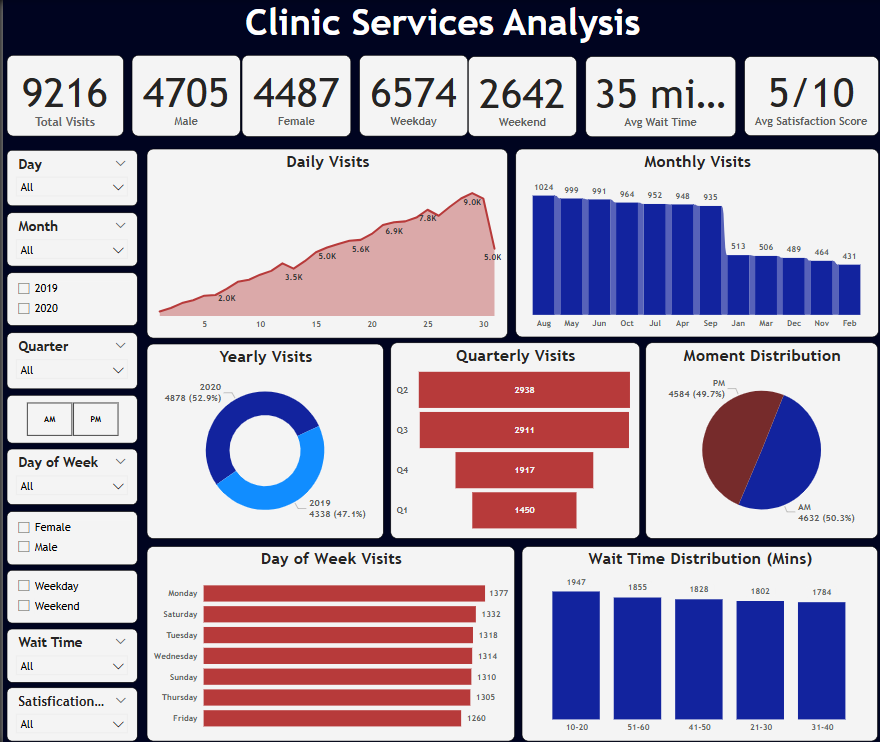

The page's visual inventory and layout, read from the dashboard file:
{"tool":"powerbi","page":{"name":"Services","canvas":[1282,1086],"ordinal":0},"visuals":[{"type":"stackedAreaChart","title":"Daily Visits","fields":{"Category":["date_time table.day"],"Y":["Sum(date_time table.day)"]},"box":[210,215.7,525.7,275.7],"z":0},{"type":"columnChart","title":"Monthly Visits","fields":{"Category":["date_time table.month"],"Y":["CountNonNull(date_time table.month)"]},"box":[745.7,215.7,528.6,274.3],"z":1000},{"type":"donutChart","title":"Yearly Visits","fields":{"Y":["CountNonNull(date_time table.year)"],"Category":["date_time table.year"]},"box":[210,500,345,283.8],"z":2000},{"type":"clusteredBarChart","title":"Day of Week Visits","fields":{"Category":["date_time table.day of week"],"Y":["CountNonNull(date_time table.day of week)"]},"box":[210,795.7,535.7,284.3],"z":3000},{"type":"funnel","title":"Quarterly Visits","fields":{"Category":["date_time table.quarter"],"Y":["CountNonNull(date_time table.quarter)"]},"box":[564.3,499.4,362.9,285.7],"z":4000},{"type":"pieChart","title":"Moment Distribution","fields":{"Category":["date_time table.Moment"],"Y":["CountNonNull(date_time table.Moment)"]},"box":[935.7,498,338.6,285.7],"z":5000},{"type":"textbox","box":[0,0,1280,74.3],"z":6000},{"type":"lineStackedColumnComboChart","title":"Wait Time Distribution (Mins)","fields":{"Category":["date_time table.waittime_bucket"],"Y":["CountNonNull(date_time table.waittime_bucket)"]},"box":[755.7,795.7,518.6,284.3],"z":7000},{"type":"slicer","fields":{"Values":["date_time table.day of week"]},"box":[6.2,653.8,190,81.2],"z":8000},{"type":"slicer","fields":{"Values":["date_time table.Moment"]},"box":[6.2,575,190,70],"z":9000},{"type":"slicer","fields":{"Values":["date_time table.quarter"]},"box":[6.2,483.8,190,82.5],"z":10000},{"type":"slicer","fields":{"Values":["date_time table.year"]},"box":[6.2,397.5,190,77.5],"z":11000},{"type":"slicer","fields":{"Values":["date_time table.month"]},"box":[6.2,310,190,78.8],"z":12000},{"type":"slicer","fields":{"Values":["date_time table.day"]},"box":[5.7,218.2,190,81.4],"z":13000},{"type":"slicer","fields":{"Values":["patient table.patient_gender"]},"box":[6.2,743.8,190,78.8],"z":14000},{"type":"slicer","fields":{"Values":["date_time table.weekday/weekend"]},"box":[6.2,830,190,77.5],"z":15000},{"type":"slicer","fields":{"Values":["date_time table.waittime_bucket"]},"box":[6.2,915,190,78.8],"z":16000},{"type":"slicer","fields":{"Values":["activity table.satisfication_score"]},"box":[6.2,1001.2,190,78.8],"z":17000},{"type":"card","fields":{"Values":["Count(patient table.patient_id)"]},"box":[5.7,80,170,118.6],"z":18000},{"type":"card","fields":{"Values":["CountNonNull(patient table.patient_gender)"]},"box":[187.7,79.8,158.6,118.6],"z":19000},{"type":"card","fields":{"Values":["CountNonNull(patient table.patient_gender)"]},"box":[347,79.7,159.4,118.8],"z":20000},{"type":"card","fields":{"Values":["date_time table.Avg Wait Time"]},"box":[847.8,81.2,218.8,117.4],"z":21000},{"type":"card","fields":{"Values":["date_time table.Avg Satisfication Score"]},"box":[1079.7,82.6,195.7,115.9],"z":22000},{"type":"card","fields":{"Values":["CountNonNull(date_time table.weekday/weekend)"]},"box":[517.7,79.7,158.6,118.6],"z":23000},{"type":"card","fields":{"Values":["CountNonNull(date_time table.weekday/weekend)"]},"box":[676.3,81.2,158.6,117.1],"z":24000}]}

Visuals, with their boxes in screenshot pixels (x1, y1, x2, y2), scaled from the page's 1282x1086 canvas onto the 880x742 screenshot:
"Daily Visits" stackedAreaChart: [x1=144, y1=147, x2=505, y2=336]
"Monthly Visits" columnChart: [x1=512, y1=147, x2=875, y2=335]
"Yearly Visits" donutChart: [x1=144, y1=342, x2=381, y2=536]
"Day of Week Visits" clusteredBarChart: [x1=144, y1=544, x2=512, y2=738]
"Quarterly Visits" funnel: [x1=387, y1=341, x2=636, y2=536]
"Moment Distribution" pieChart: [x1=642, y1=340, x2=875, y2=535]
textbox: [x1=0, y1=0, x2=879, y2=51]
"Wait Time Distribution (Mins)" lineStackedColumnComboChart: [x1=519, y1=544, x2=875, y2=738]
slicer - date_time table.day of week: [x1=4, y1=447, x2=135, y2=502]
slicer - date_time table.Moment: [x1=4, y1=393, x2=135, y2=441]
slicer - date_time table.quarter: [x1=4, y1=331, x2=135, y2=387]
slicer - date_time table.year: [x1=4, y1=272, x2=135, y2=325]
slicer - date_time table.month: [x1=4, y1=212, x2=135, y2=266]
slicer - date_time table.day: [x1=4, y1=149, x2=134, y2=205]
slicer - patient table.patient_gender: [x1=4, y1=508, x2=135, y2=562]
slicer - date_time table.weekday/weekend: [x1=4, y1=567, x2=135, y2=620]
slicer - date_time table.waittime_bucket: [x1=4, y1=625, x2=135, y2=679]
slicer - activity table.satisfication_score: [x1=4, y1=684, x2=135, y2=738]
card - Count(patient table.patient_id): [x1=4, y1=55, x2=121, y2=136]
card - CountNonNull(patient table.patient_gender): [x1=129, y1=55, x2=238, y2=136]
card - CountNonNull(patient table.patient_gender): [x1=238, y1=54, x2=348, y2=136]
card - date_time table.Avg Wait Time: [x1=582, y1=55, x2=732, y2=136]
card - date_time table.Avg Satisfication Score: [x1=741, y1=56, x2=875, y2=136]
card - CountNonNull(date_time table.weekday/weekend): [x1=355, y1=54, x2=464, y2=135]
card - CountNonNull(date_time table.weekday/weekend): [x1=464, y1=55, x2=573, y2=135]
